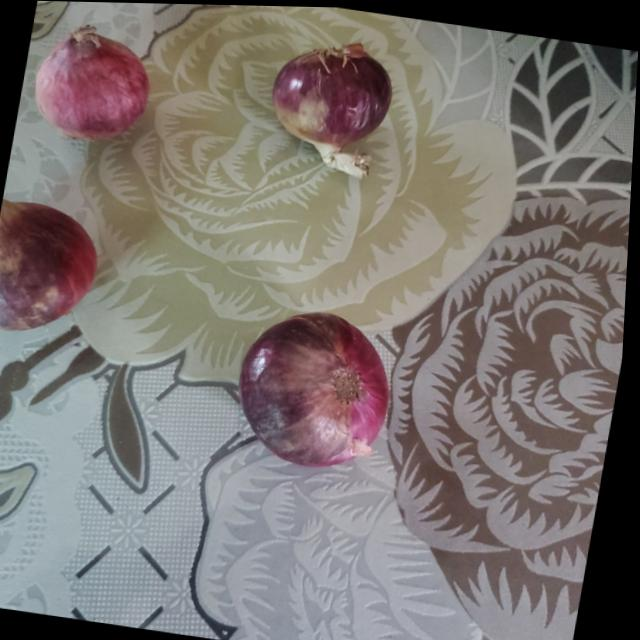onion: (235, 304, 414, 476), (27, 18, 161, 144), (267, 32, 402, 152), (0, 195, 104, 340)
